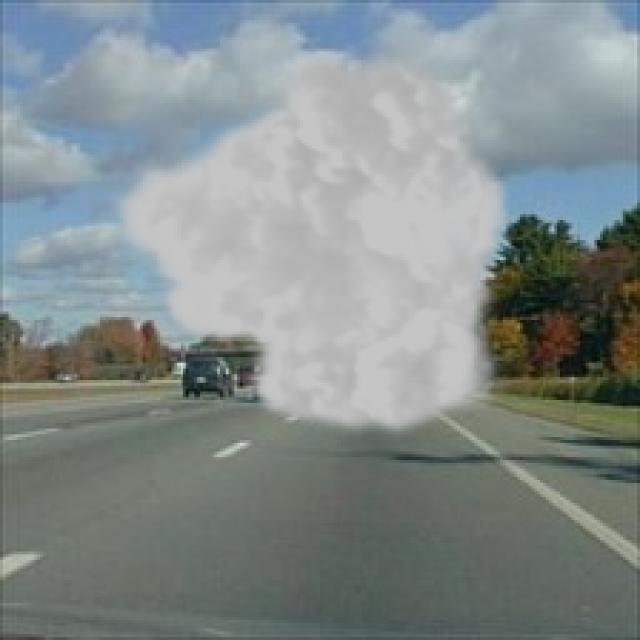Smoke: (102, 40, 514, 443)
